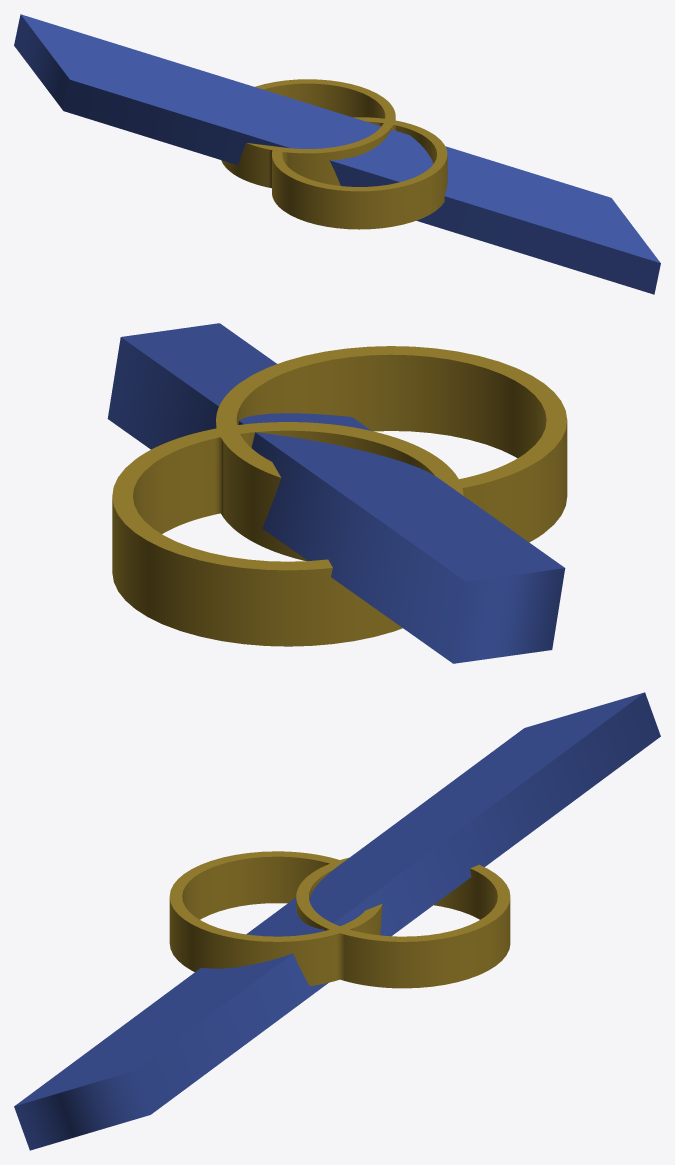
Rendered from CENTRE AFFICHE.fbx.
3 views of the same model, one above another, from view 1: azimuth 30°, elevation 25°; view 2: azimuth 150°, elevation 25°; view 3: azimuth 270°, elevation 25° (orthographic). The views are drawn at different scales.
Parts seen in each view (by area): view 1: path1, path2; view 2: path2, path1; view 3: path1, path2.
Boxes of the visible parts, bbox=[...] form: path1: bbox=[14, 14, 660, 294]; path2: bbox=[221, 79, 447, 229]; path2: bbox=[112, 346, 567, 646]; path1: bbox=[107, 323, 565, 663]; path1: bbox=[14, 692, 660, 1150]; path2: bbox=[169, 851, 510, 988].
Bounding box in the file's own units: 20.98 × 9.94 × 25.23.
